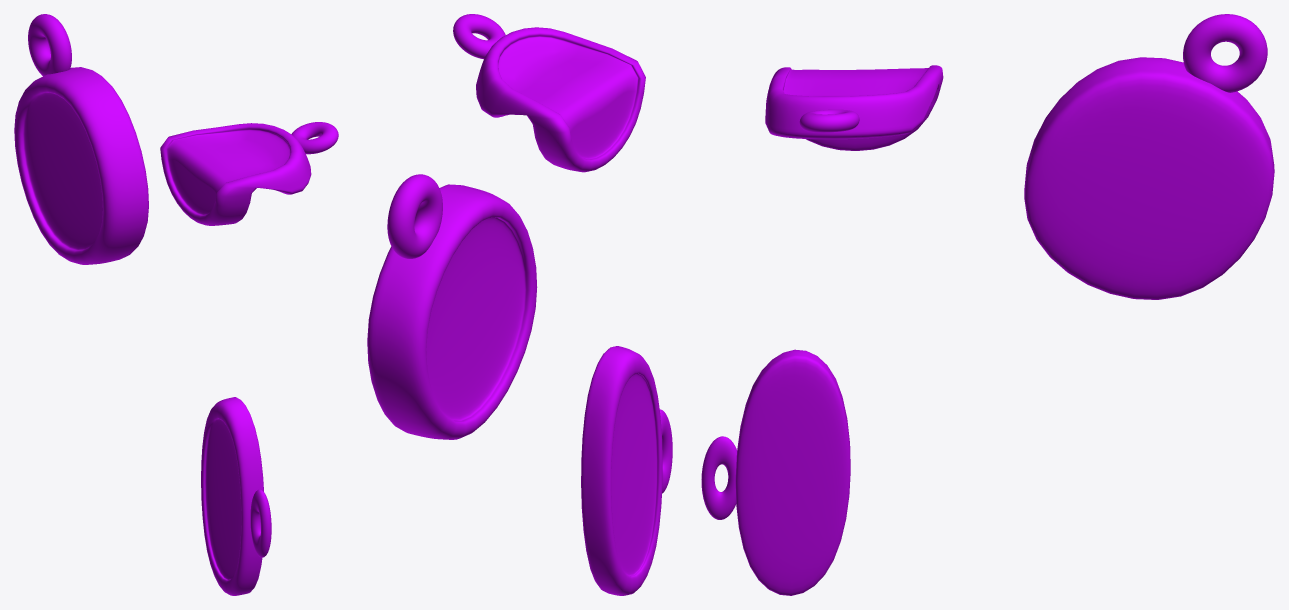
File: relojes.fbx
3 renders of one model, left to right at view 1: azimuth 30°, elevation 25°; view 2: azimuth 150°, elevation 25°; view 3: azimuth 270°, elevation 25°, orthographic. The views are drawn at different scales.
Parts seen in each view (by area): view 1: polySurface15; view 2: polySurface15; view 3: polySurface15.
Part boxes in pixels (<box>): polySurface15: <box>14,14,338,595</box>; polySurface15: <box>367,14,672,595</box>; polySurface15: <box>701,14,1274,595</box>.
Bounding box in the file's own units: 1.55 × 4.57 × 4.16.
